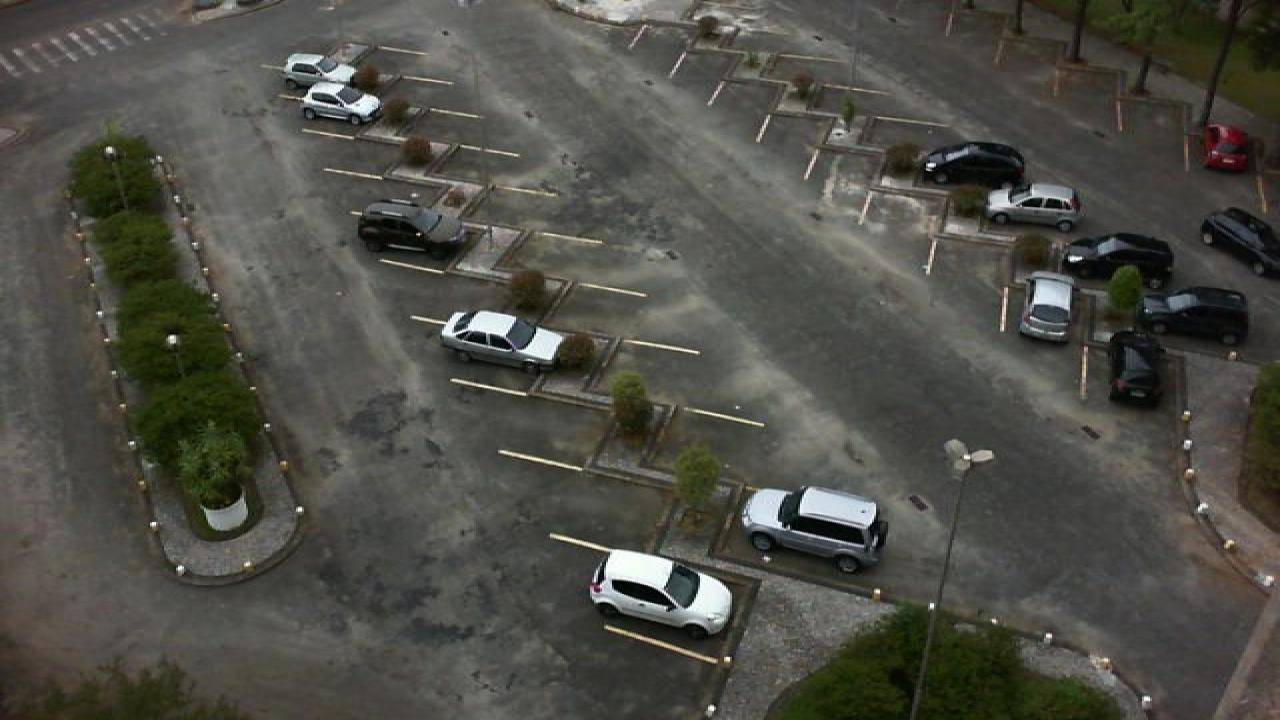Car: (740, 485, 894, 574), (588, 549, 738, 639), (438, 308, 568, 373), (356, 199, 468, 259), (1140, 286, 1252, 344), (1062, 232, 1178, 287), (1198, 207, 1280, 278), (918, 140, 1026, 186), (1104, 330, 1168, 406), (986, 182, 1082, 232), (1018, 271, 1080, 345), (300, 82, 382, 125), (282, 53, 358, 92), (1200, 122, 1252, 173)
